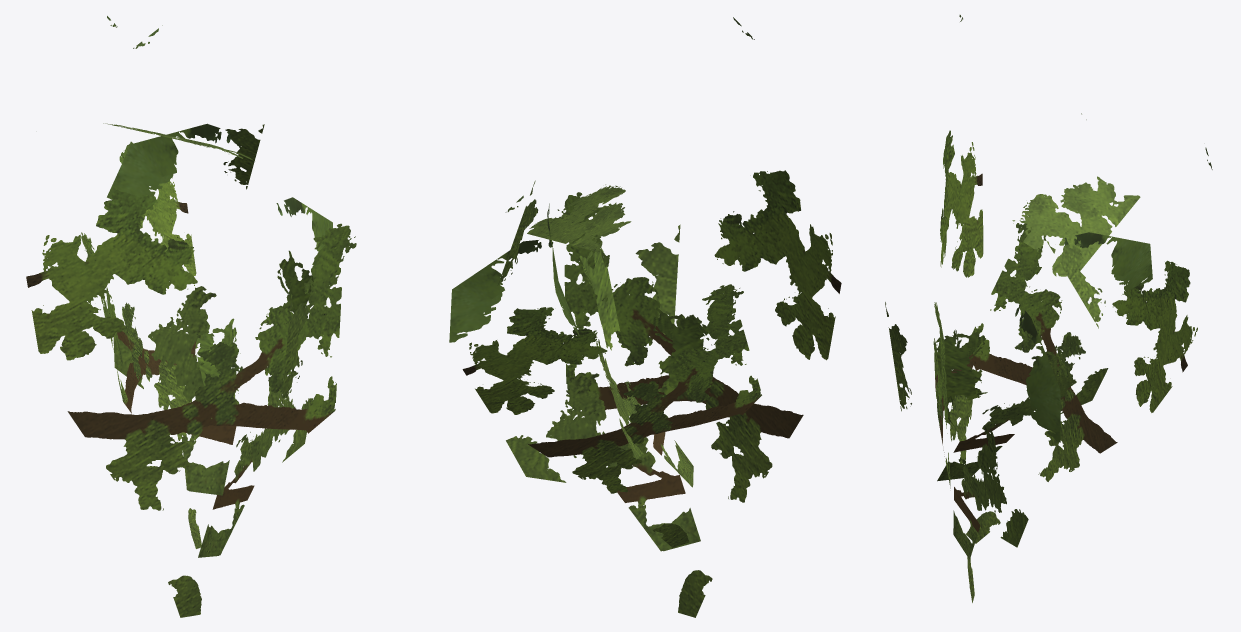
The model's file is Arbre_007_Arbuste.fbx.
3 renders of one model, left to right at view 1: azimuth 30°, elevation 25°; view 2: azimuth 150°, elevation 25°; view 3: azimuth 270°, elevation 25°, orthographic. The views are drawn at different scales.
Visible parts, largest first — view 1: Arbre_007_Arbuste; view 2: Arbre_007_Arbuste; view 3: Arbre_007_Arbuste.
Boxes of the visible parts, x1=… form: Arbre_007_Arbuste: x1=26, y1=16, x2=356, y2=617; Arbre_007_Arbuste: x1=449, y1=17, x2=841, y2=617; Arbre_007_Arbuste: x1=885, y1=15, x2=1212, y2=602.
Bounding box in the file's own units: 2.44 × 3.82 × 2.09.
